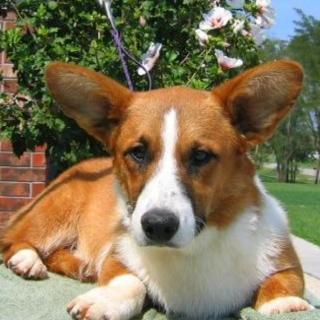dog: (39, 50, 303, 251)
nose: (138, 209, 185, 244)
